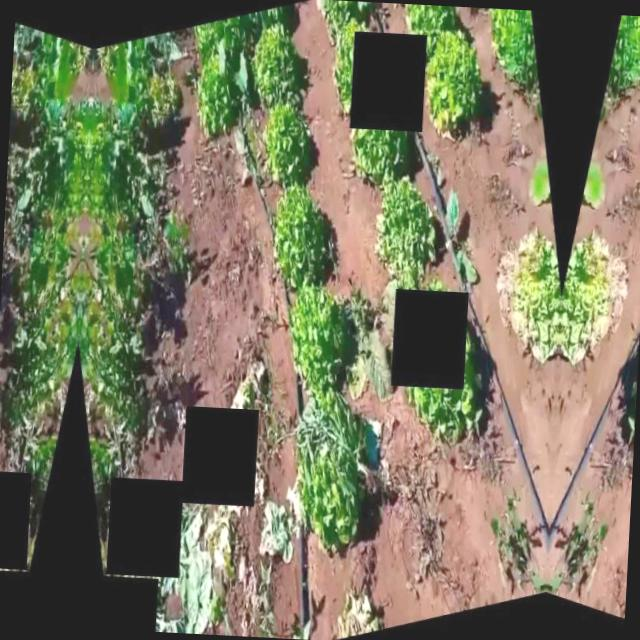healthy: (285, 393, 371, 552), (403, 324, 491, 445), (558, 231, 630, 366), (492, 228, 564, 362), (372, 172, 443, 280), (286, 280, 354, 390), (422, 29, 487, 138), (271, 179, 328, 285), (193, 51, 244, 136), (330, 18, 375, 114), (263, 100, 313, 186), (486, 9, 539, 90), (348, 120, 409, 188), (250, 21, 300, 102), (609, 15, 640, 97), (622, 336, 640, 452), (404, 4, 458, 37)
